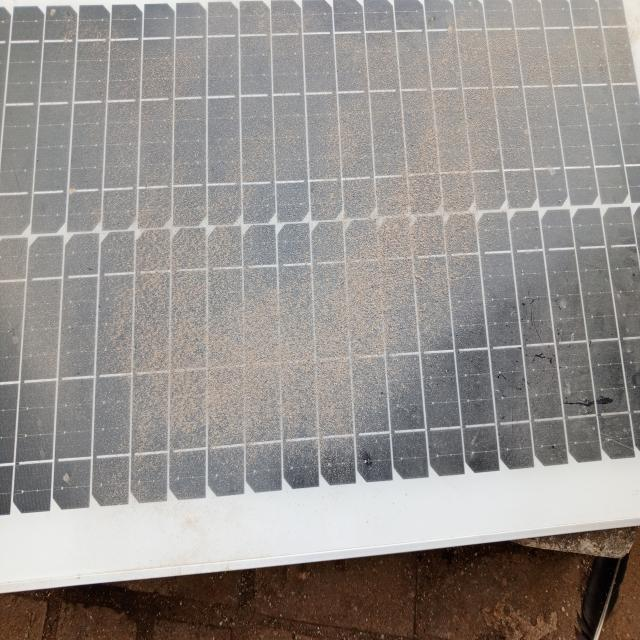Anomaly Solar Panel: (6, 0, 634, 516)
Surface Contaminant: (18, 8, 639, 462)
